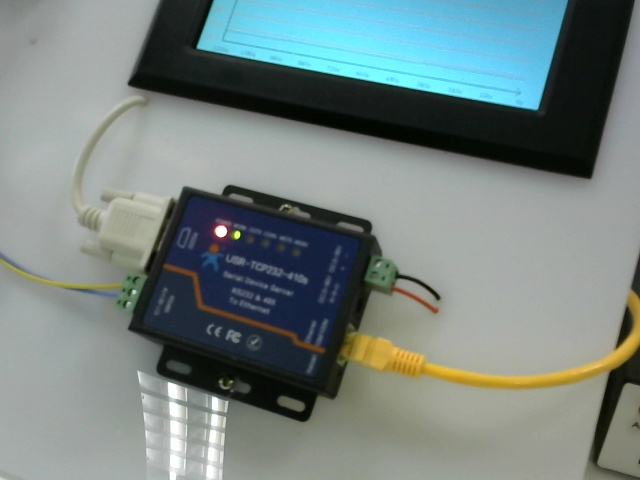modbus bridge: (157, 186, 357, 405)
